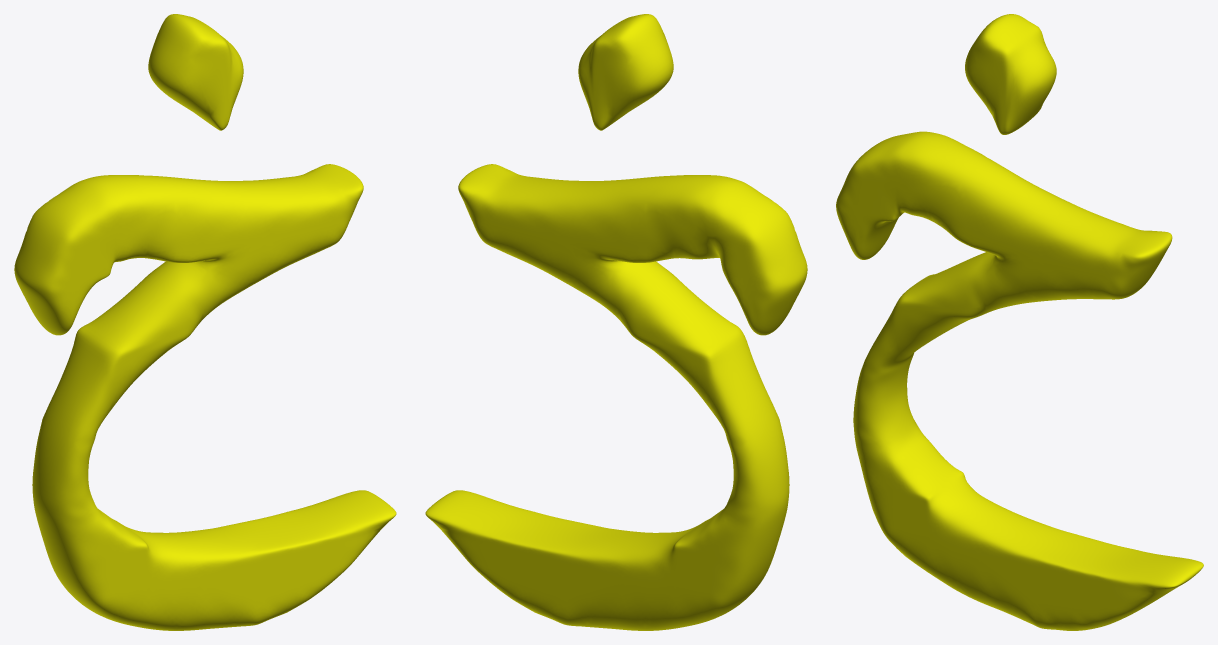
3 views of the same model, side by side, from view 1: azimuth 30°, elevation 25°; view 2: azimuth 150°, elevation 25°; view 3: azimuth 330°, elevation 25° (orthographic). The views are drawn at different scales.
Parts seen in each view (by area): view 1: char_1; view 2: char_1; view 3: char_1.
Part boxes in pixels (left/top/right/bottom): char_1: left=14, top=14, right=396, bottom=630; char_1: left=425, top=14, right=807, bottom=630; char_1: left=836, top=14, right=1203, bottom=630.
Bounding box in the file's own units: 5.5 × 8.95 × 1.01.
